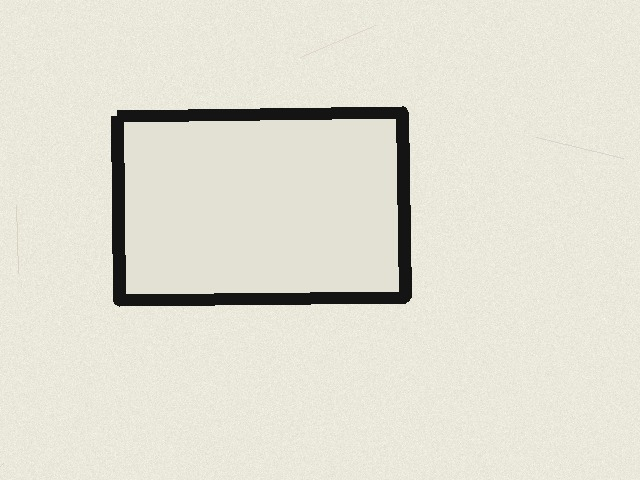parking_area: (117, 112, 405, 300)
